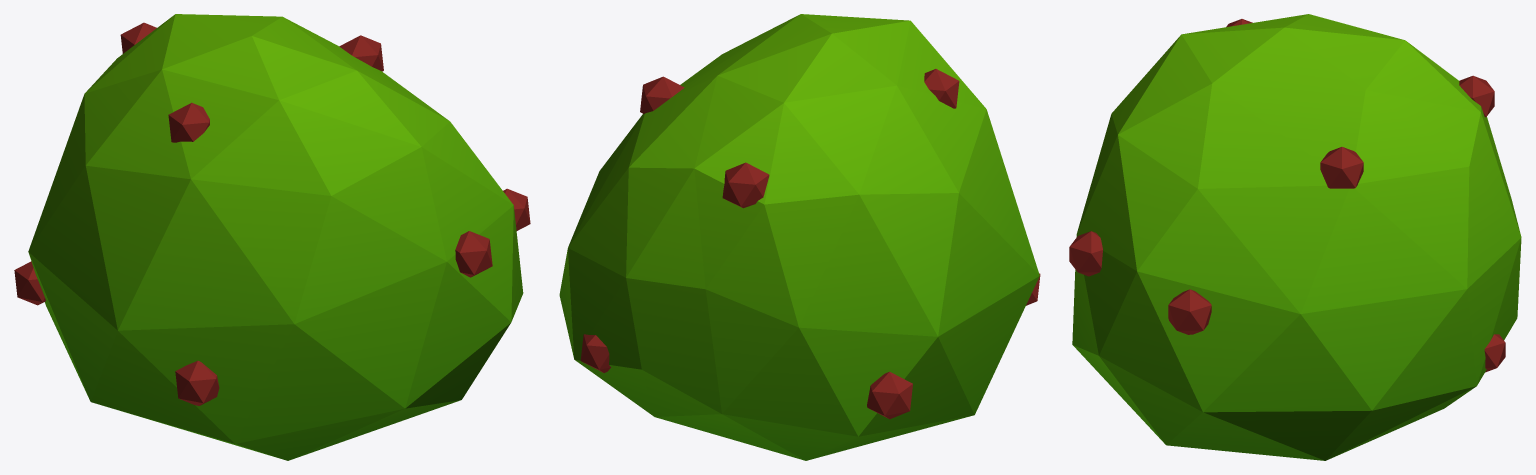
The model's file is bush_4.fbx.
3 renders of one model, left to right at view 1: azimuth 30°, elevation 25°; view 2: azimuth 150°, elevation 25°; view 3: azimuth 270°, elevation 25°, orthographic. The views are drawn at different scales.
Visible parts, largest first — view 1: bush_4; view 2: bush_4; view 3: bush_4.
Boxes of the visible parts, bbox=[...] form: bush_4: bbox=[14, 14, 530, 460]; bush_4: bbox=[559, 14, 1040, 460]; bush_4: bbox=[1069, 14, 1521, 460].
Size of the model in its own units: 0.9903 by 0.9168 by 0.9945.
